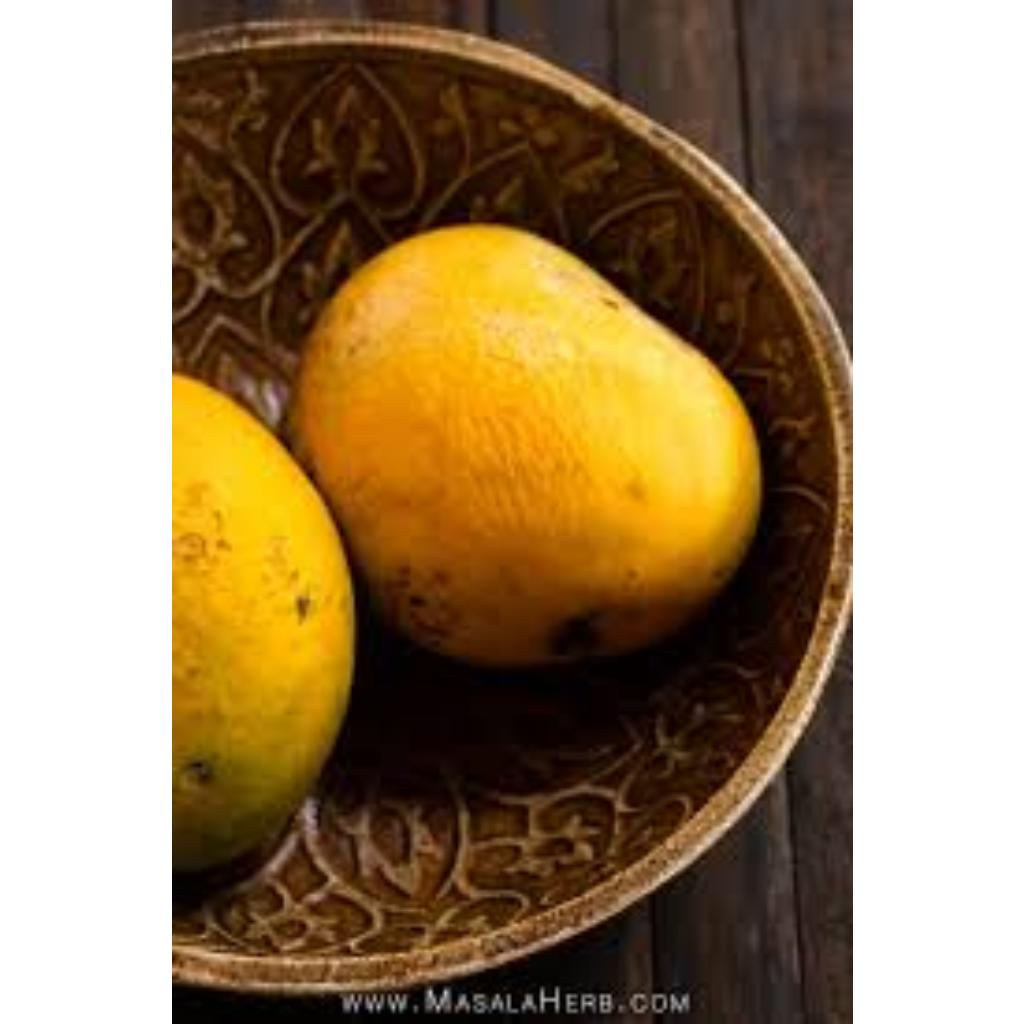mango: (279, 223, 752, 674)
